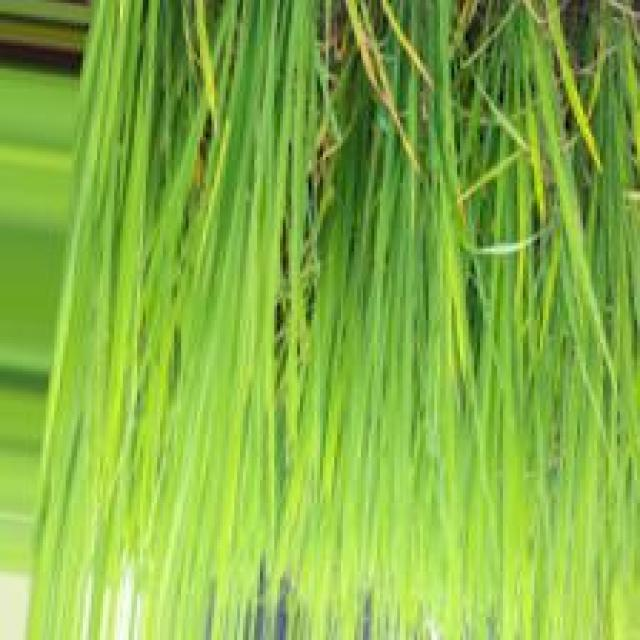HealthyLeaf: (217, 55, 254, 242), (324, 345, 336, 409)
